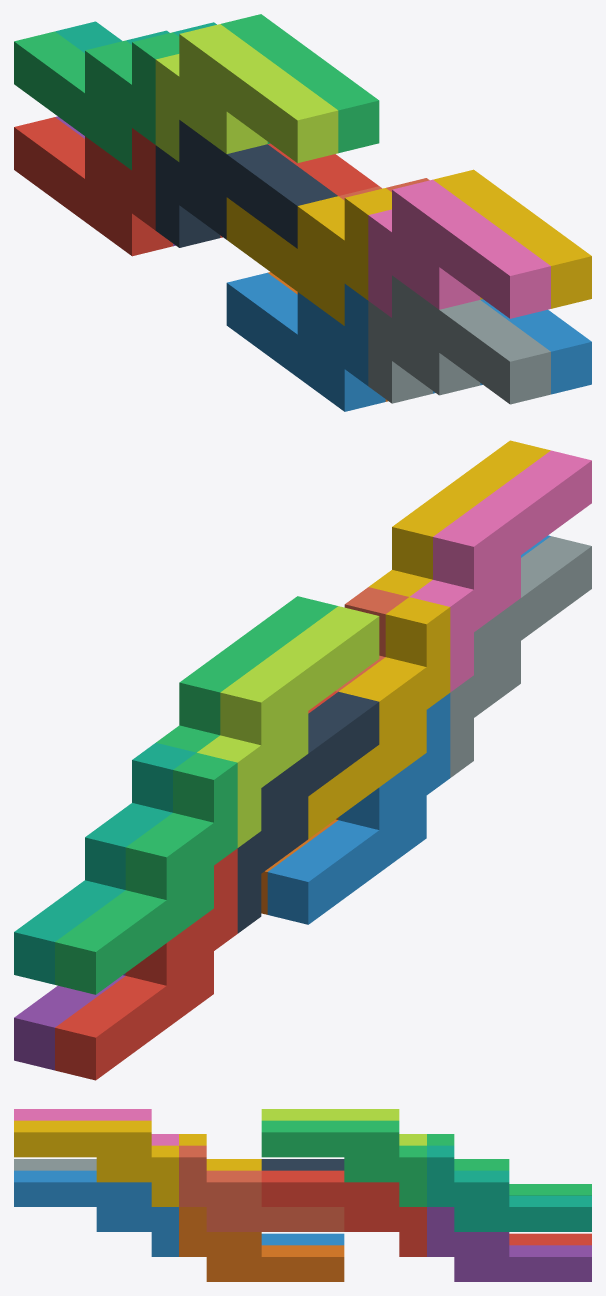
The model's file is tiling.obj.
3 views of the same model, one above another, from view 1: azimuth 30°, elevation 25°; view 2: azimuth 150°, elevation 25°; view 3: azimuth 270°, elevation 25° (orthographic). The views are drawn at different scales.
Parts seen in each view (by area): view 1: copy_2_domain_3, copy_2_domain_4, copy_2_domain_2, copy_1_domain_3, copy_2_domain_1, copy_1_domain_2, copy_1_domain_1, copy_1_domain_4, copy_2_domain_7, copy_2_domain_8, copy_2_domain_6, copy_2_domain_5 (+1 smaller); view 2: copy_1_domain_3, copy_2_domain_3, copy_2_domain_4, copy_1_domain_2, copy_1_domain_1, copy_1_domain_4, copy_2_domain_1, copy_2_domain_2, copy_1_domain_7, copy_2_domain_7, copy_2_domain_8, copy_1_domain_5 (+1 smaller); view 3: copy_2_domain_7, copy_2_domain_8, copy_1_domain_7, copy_2_domain_5, copy_1_domain_6, copy_1_domain_8, copy_2_domain_6, copy_1_domain_5, copy_1_domain_3, copy_2_domain_3, copy_2_domain_4, copy_1_domain_2 (+4 smaller).
Boxes of the visible parts, x1,y1,x2,y2 form: copy_2_domain_3: (155,24,338,163); copy_2_domain_4: (368,179,550,318); copy_2_domain_2: (368,275,550,404); copy_1_domain_3: (14,31,179,170); copy_2_domain_1: (155,120,337,248); copy_1_domain_2: (226,272,385,411); copy_1_domain_1: (14,117,172,256); copy_1_domain_4: (226,188,391,325); copy_2_domain_7: (221,14,379,153); copy_2_domain_8: (433,169,591,308); copy_2_domain_6: (433,299,591,394); copy_2_domain_5: (220,143,378,237); copy_1_domain_3: (55,752,237,994); copy_2_domain_3: (197,606,379,847); copy_2_domain_4: (410,450,591,692); copy_1_domain_2: (267,693,450,924); copy_1_domain_1: (55,848,237,1080); copy_1_domain_4: (308,597,450,838); copy_2_domain_1: (237,691,379,933); copy_2_domain_2: (450,536,591,777); copy_1_domain_7: (14,743,195,984); copy_2_domain_7: (156,596,337,752); copy_2_domain_8: (369,440,550,596); copy_1_domain_5: (14,973,125,1070); copy_2_domain_7: (261,1120,426,1206); copy_2_domain_8: (14,1120,178,1206); copy_1_domain_7: (427,1145,591,1231); copy_2_domain_5: (261,1170,426,1256); copy_1_domain_6: (179,1207,344,1281); copy_1_domain_8: (179,1145,344,1231); copy_2_domain_6: (14,1170,178,1256); copy_1_domain_5: (427,1207,591,1281); copy_1_domain_3: (427,1134,591,1195); copy_2_domain_3: (261,1109,426,1145); copy_2_domain_4: (14,1109,178,1145); copy_1_domain_2: (261,1233,344,1245).
Size of the model in its own units: 2 by 6 by 21.
